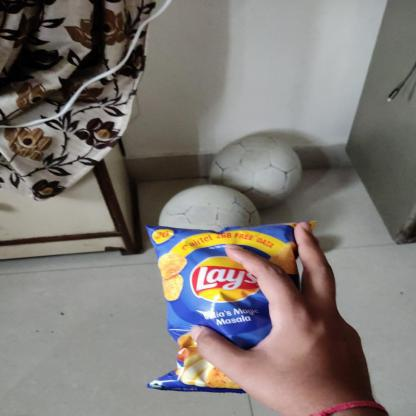indian_magic_masala: (146, 225, 309, 393)
